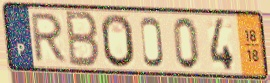0: (171, 15, 201, 72), (139, 15, 166, 68)
4: (209, 16, 237, 73)
B: (64, 9, 101, 71)
O: (99, 12, 137, 69)
R: (30, 12, 69, 65)
